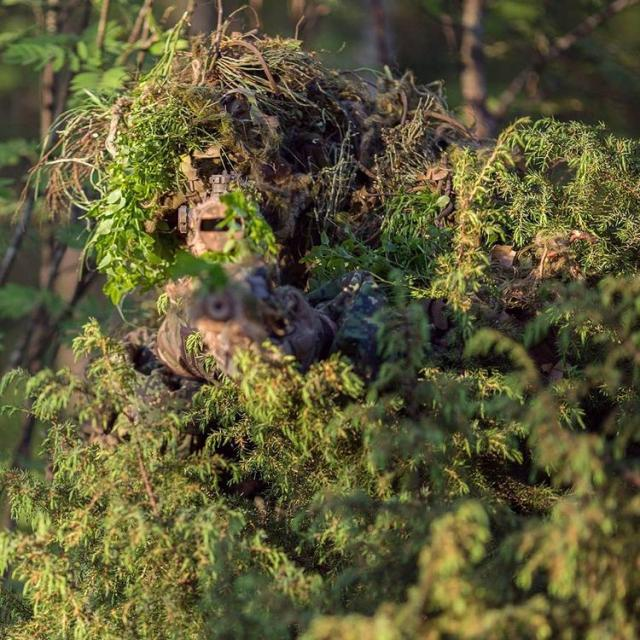Camouflage: (33, 41, 472, 384)
